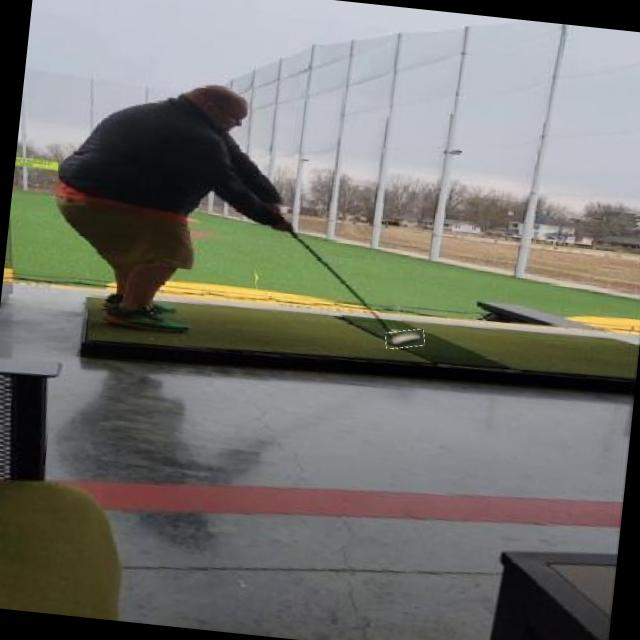club head: (384, 327, 426, 351)
